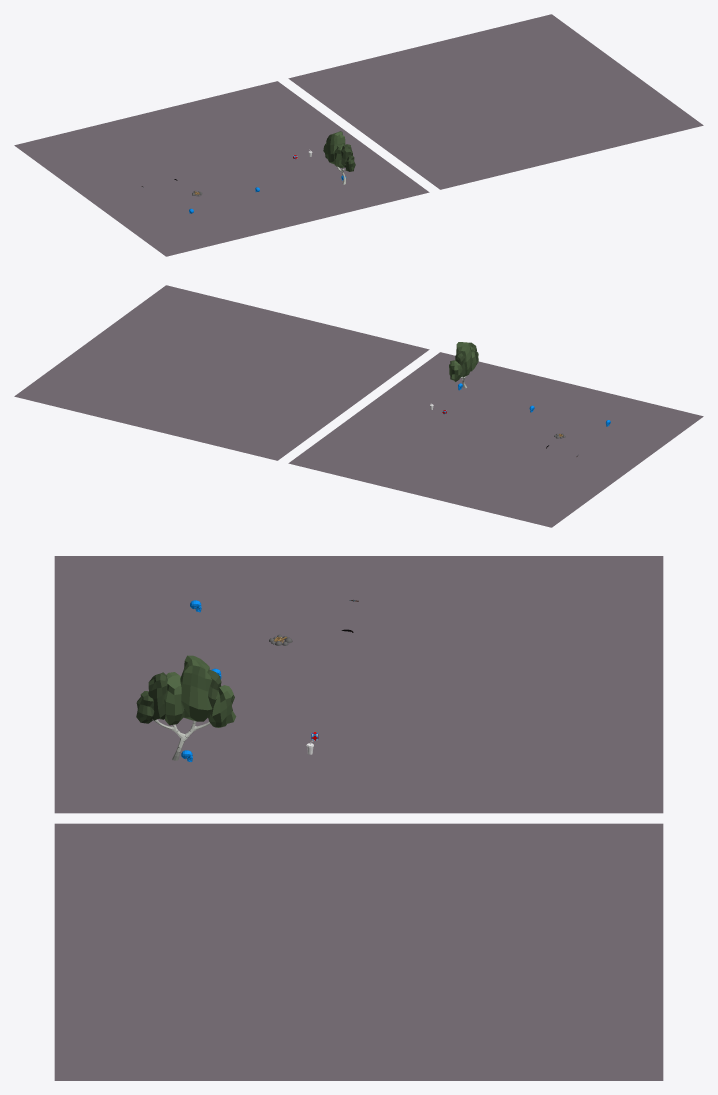
3 views of the same model, one above another, from view 1: azimuth 30°, elevation 25°; view 2: azimuth 150°, elevation 25°; view 3: azimuth 270°, elevation 25° (orthographic). The views are drawn at different scales.
Visible parts, largest first — view 1: groundForest, ground, forest; view 2: groundForest, ground, forest; view 3: groundForest, ground, forest.
Boxes of the visible parts, x1,y1,x2,y2 form: groundForest: [288, 14, 703, 189]; ground: [14, 81, 429, 256]; forest: [323, 131, 355, 184]; groundForest: [14, 285, 429, 460]; ground: [288, 352, 703, 527]; forest: [449, 342, 478, 388]; groundForest: [54, 823, 663, 1080]; ground: [54, 556, 663, 813]; forest: [136, 655, 236, 760].
Bounding box in the file's own units: 204 × 17.79 × 100.
Materials: 55 (1 with a texture image).
